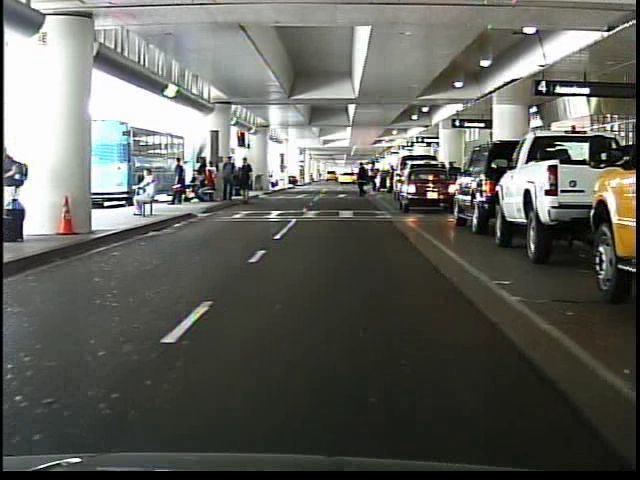person: (124, 167, 161, 221), (167, 156, 187, 209), (354, 159, 373, 204), (365, 160, 381, 197)
